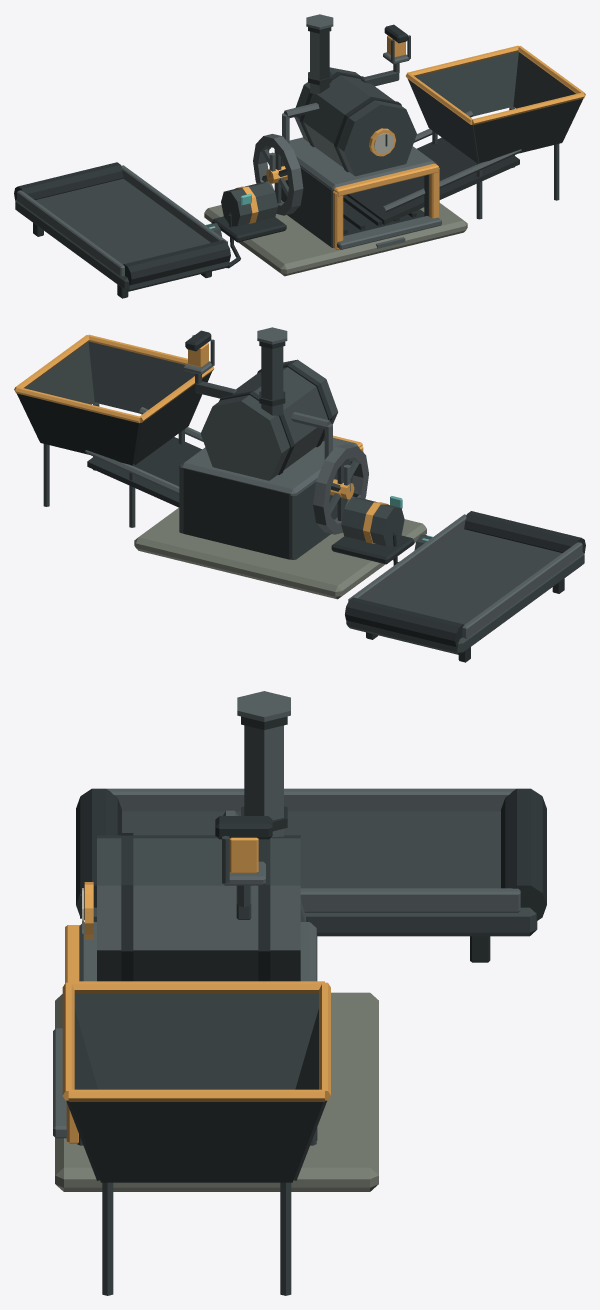
3 renders of one model, top to bottom at view 1: azimuth 30°, elevation 25°; view 2: azimuth 150°, elevation 25°; view 3: azimuth 270°, elevation 25°, orthographic. The views are drawn at different scales.
Visible parts, largest first — view 1: GBody, HBody, CBeltFrame, HChute, GFrame, GDynamo, GRotor, CRollerA, CRollerB, GChimney, GLampHousing, HLegs (+2 smaller); view 2: GBody, HBody, CBeltFrame, GDynamo, HChute, GRotor, CRollerB, CRollerA, GChimney, GLampHousing, HLegs, GTubes; view 3: HBody, GBody, CBeltFrame, GChimney, CRollerB, CRollerA, GLampHousing, HLegs, GFrame, GLanternGlow.
Part boxes in pixels (bbox=[...]): GBody: bbox=[204, 67, 467, 276]; HBody: bbox=[406, 45, 585, 162]; CBeltFrame: bbox=[15, 165, 229, 298]; HChute: bbox=[346, 110, 521, 224]; GFrame: bbox=[333, 163, 441, 249]; GDynamo: bbox=[212, 182, 286, 242]; GRotor: bbox=[253, 134, 303, 215]; CRollerA: bbox=[123, 240, 230, 285]; CRollerB: bbox=[14, 162, 123, 200]; GChimney: bbox=[306, 14, 333, 94]; GLampHousing: bbox=[361, 24, 410, 86]; HLegs: bbox=[432, 106, 559, 219]; GBody: bbox=[134, 359, 426, 599]; HBody: bbox=[14, 334, 214, 465]; CBeltFrame: bbox=[346, 514, 584, 662]; GDynamo: bbox=[331, 497, 414, 564]; HChute: bbox=[85, 407, 203, 507]; GRotor: bbox=[313, 443, 368, 534]; CRollerB: bbox=[345, 597, 464, 647]; CRollerA: bbox=[464, 511, 585, 553]; GChimney: bbox=[257, 327, 287, 416]; GLampHousing: bbox=[183, 330, 237, 398]; HLegs: bbox=[43, 402, 184, 527]; GTubes: bbox=[291, 412, 341, 497]; HBody: bbox=[62, 981, 330, 1182]; GBody: bbox=[55, 833, 378, 1191]; CBeltFrame: bbox=[93, 788, 537, 962]; GChimney: bbox=[237, 691, 290, 836]; CRollerB: bbox=[501, 788, 546, 920]; CRollerA: bbox=[76, 788, 121, 919]; GLampHousing: bbox=[215, 816, 272, 919]; HLegs: bbox=[102, 1182, 291, 1295]; GFrame: bbox=[53, 925, 79, 1143]; GLanternGlow: bbox=[229, 837, 258, 873].
Size of the model in its own units: 15.63 by 6.48 by 7.32.
Materials: 1 (1 with a texture image).
